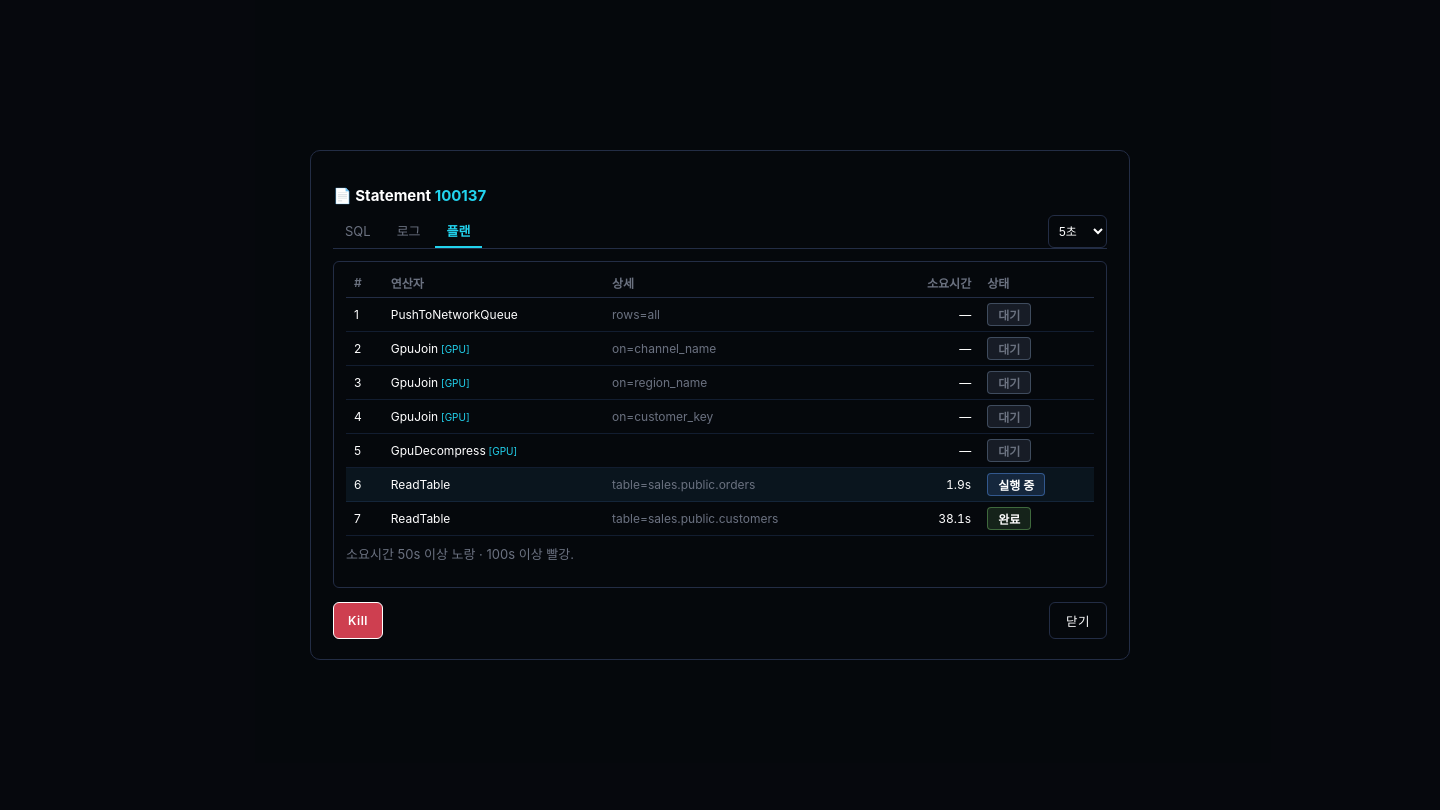
it: 탭 › pollLive — 자체 주기 라이브 갱신·주기 설정·종료 배너·Kill 잠금 (X8)
The image size is (1440, 810).
Select "3초" in the dropdown named "자동 갱신 주기": [1078, 232] box x1=1048 y1=215 x2=1107 y2=248
Wait 6000 ms
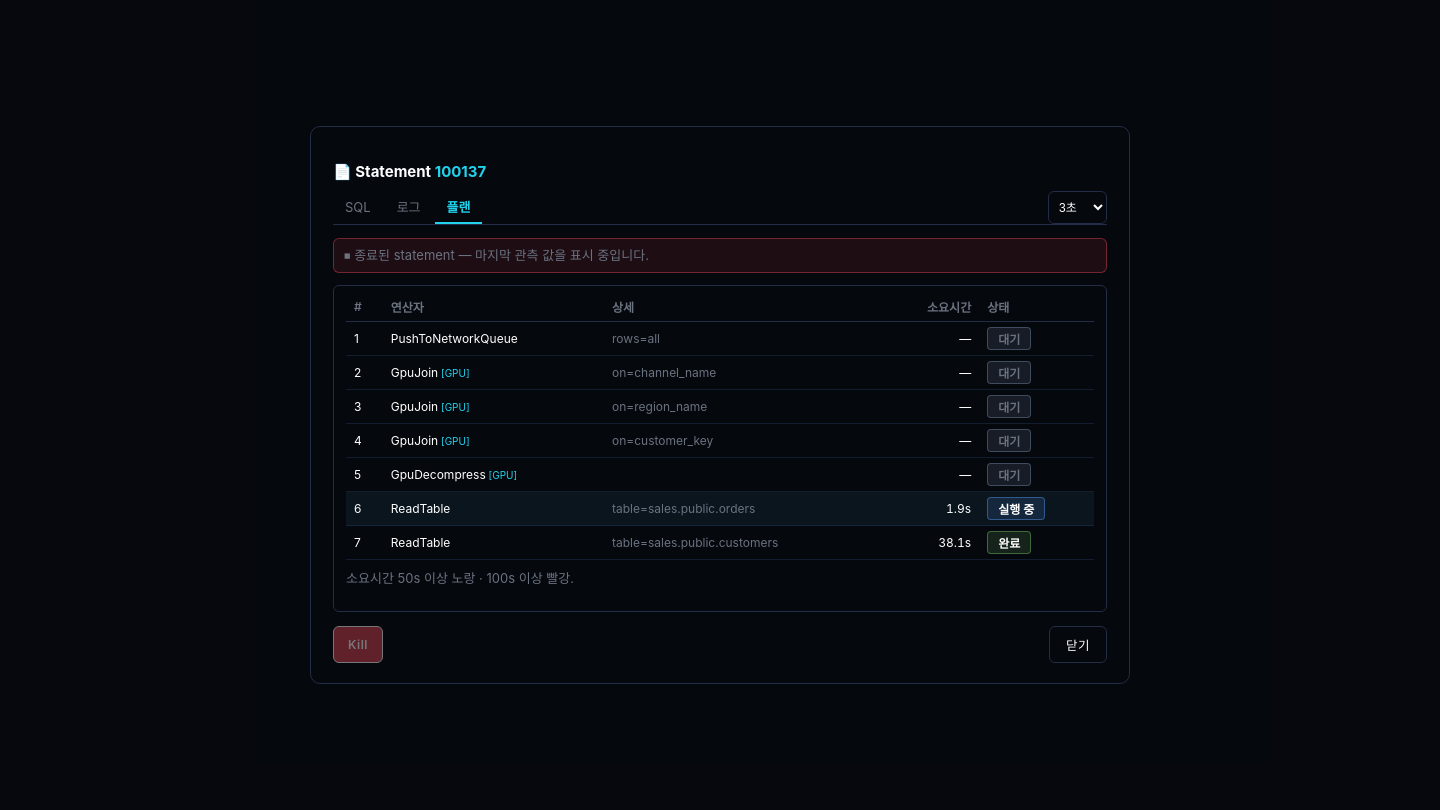
Expected: the message shows "종료된 statement", x1=344 y1=247 x2=649 y2=263
Expected: the button "Kill" is disabled, x1=333 y1=626 x2=383 y2=663
